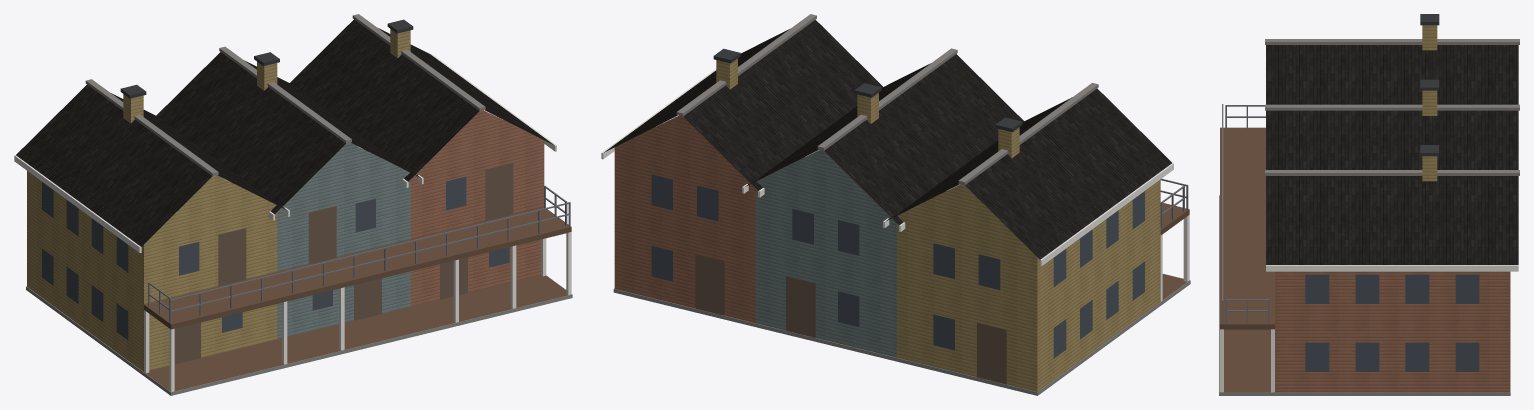
File: mh-worker-row.towns-v1.lod1.glb
3 renders of one model, left to right at view 1: azimuth 30°, elevation 25°; view 2: azimuth 150°, elevation 25°; view 3: azimuth 270°, elevation 25°, orthographic. The views are drawn at different scales.
Visible parts, largest first — view 1: mh-worker-row; view 2: mh-worker-row; view 3: mh-worker-row.
Boxes of the visible parts, left/top/right/bottom form: mh-worker-row: left=14, top=14, right=572, bottom=395; mh-worker-row: left=601, top=14, right=1190, bottom=395; mh-worker-row: left=1219, top=14, right=1519, bottom=395.
Bounding box in the file's own units: 19.38 × 9.44 × 12.03.
3 materials, 2 textured.
